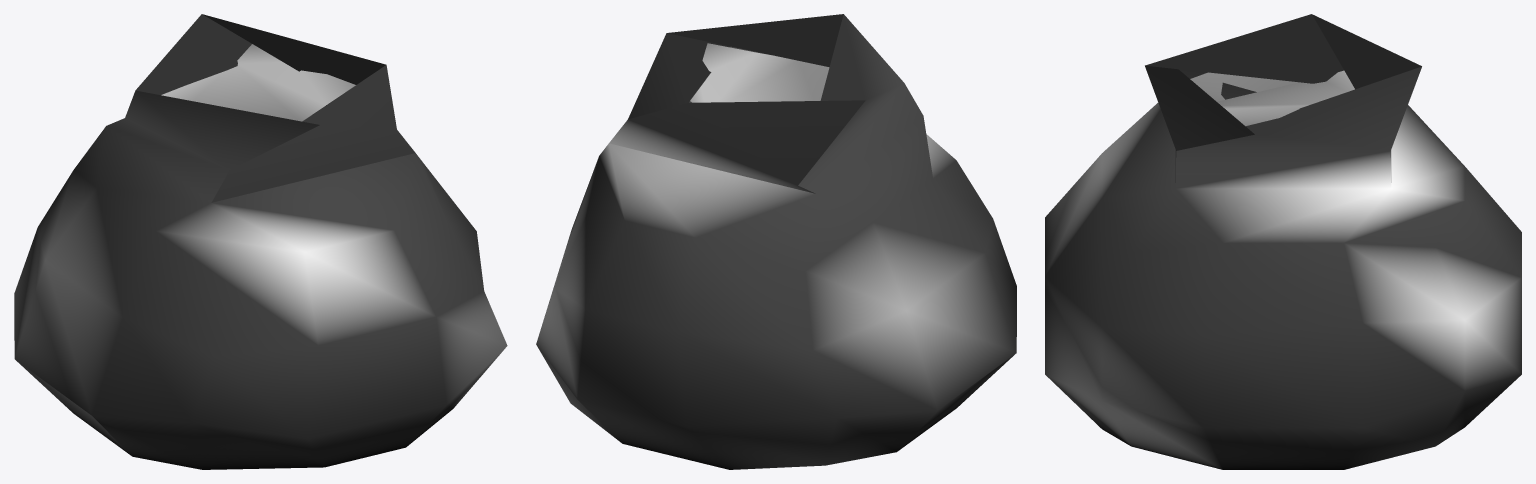
Rendered from K_GOMI05.glb.
3 views of the same model, side by side, from view 1: azimuth 30°, elevation 25°; view 2: azimuth 150°, elevation 25°; view 3: azimuth 270°, elevation 25° (orthographic). The views are drawn at different scales.
Visible parts, largest first — view 1: FRAME_ROOT; view 2: FRAME_ROOT; view 3: FRAME_ROOT.
Part boxes in pixels (left/top/right/bottom): FRAME_ROOT: left=14, top=14, right=507, bottom=469; FRAME_ROOT: left=536, top=14, right=1016, bottom=469; FRAME_ROOT: left=1045, top=14, right=1521, bottom=469.
Size of the model in its own units: 2.41 by 2.14 by 2.53.
1 material, 1 textured.
